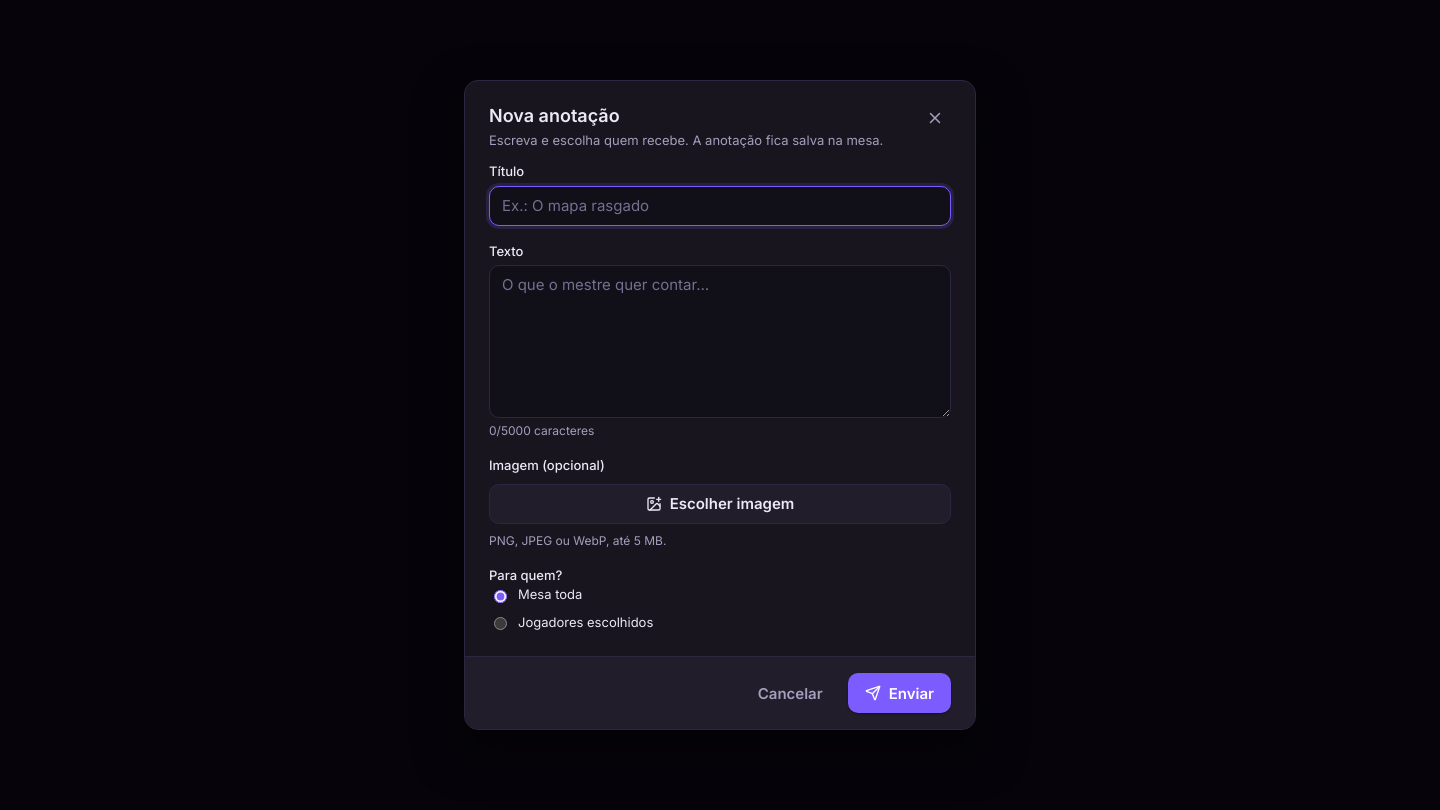
Scenario: nova anotação › shouldListOnlyPlayersAsPossibleRecipients
Click the radio button labelled "Jogadores escolhidos".
click(500, 624)  # box left=494, top=617, right=507, bottom=630
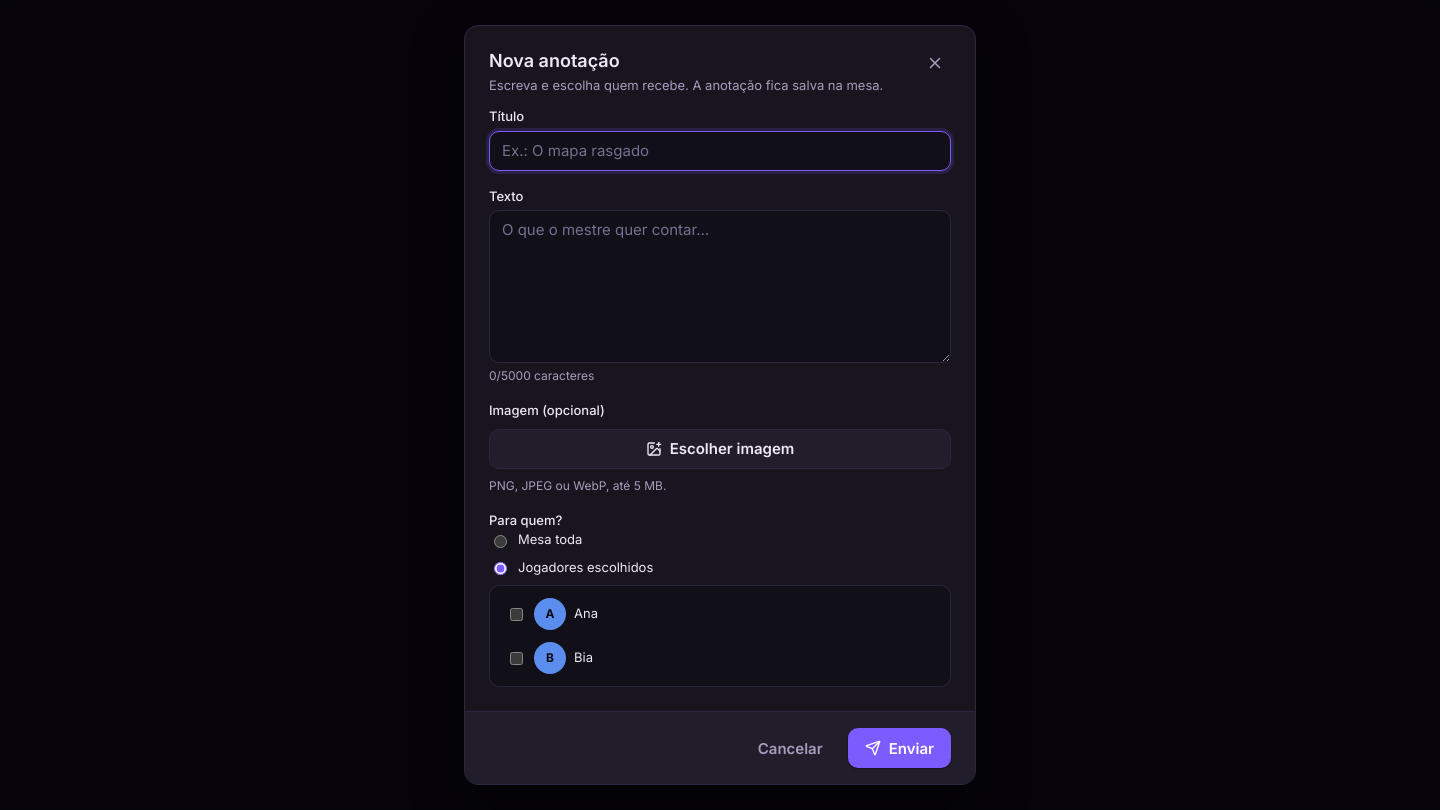
Expected: the checkbox labelled "Ana" is not checked, left=510, top=608, right=523, bottom=620
Expected: the checkbox labelled "Bia" is not checked, left=510, top=652, right=523, bottom=664
